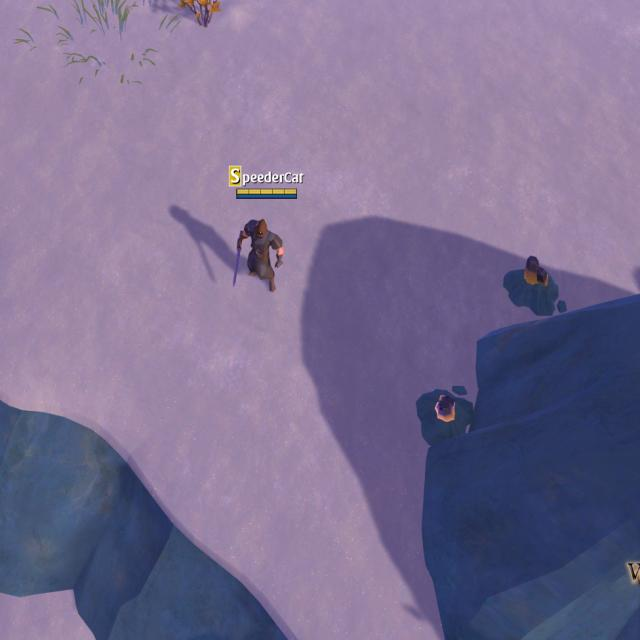copper: (496, 250, 569, 322), (408, 377, 477, 445)
cotton: (174, 0, 228, 32)
